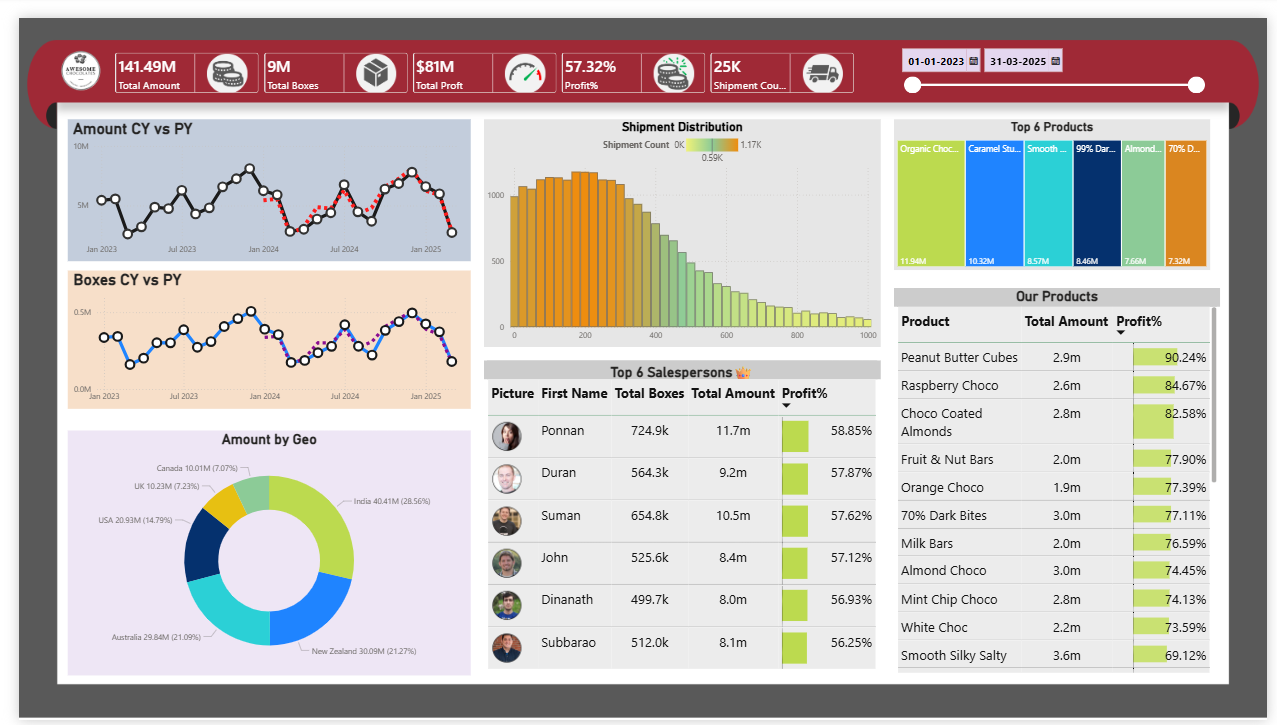

The dashboard page shown, as its layout file describes it:
{"tool":"powerbi","page":{"name":"Page 8","canvas":[1920,1080],"ordinal":7},"visuals":[{"type":"lineChart","title":"Amount CY vs PY","fields":{"Category":["calendar.Start of Month"],"Y":["shipments.Total Amount","shipments.Total Amount(last year)"]},"box":[75,156.7,620,218.3],"z":0},{"type":"lineChart","title":"Boxes CY vs PY","fields":{"Category":["calendar.Start of Month"],"Y":["shipments.Total Boxes","shipments.Total Box(Last Year)"]},"box":[75,387.5,620,212.5],"z":1000},{"type":"donutChart","title":"Amount by Geo","fields":{"Category":["locations.Geo"],"Y":["shipments.Total Amount"]},"box":[75,635,620,376.7],"z":2000},{"type":"clusteredColumnChart","title":"Shipment Distribution","fields":{"Category":["shipments.Boxes (bins)"],"Y":["shipments.Shipment Count"]},"box":[715,156.7,610,350],"z":3000},{"type":"tableEx","title":"Top 6 Salespersons👑","fields":{"Values":["people.Picture","people.First Name","shipments.Total Boxes","shipments.Total Amount","shipments.Profit%"]},"box":[715,526.7,610,485],"z":4000},{"type":"treemap","title":"Top 6 Products","fields":{"Values":["shipments.Total Amount"],"Group":["products.Product"]},"box":[1346.7,156.7,486.7,231.7],"z":5000},{"type":"tableEx","title":"Our Products","fields":{"Values":["products.Product","shipments.Total Amount","shipments.Profit%"]},"box":[1346.7,415,501.7,596.7],"z":6000},{"type":"cardVisual","fields":{"Data":["shipments.Total Amount","shipments.Total Boxes","shipments.Total Proft","shipments.Profit%","shipments.Shipment Count"]},"box":[130,36,1172,96],"z":7000},{"type":"slicer","fields":{"Values":["calendar.cal_date"]},"box":[1346,36,486,96],"z":8000}]}

Visuals, with their boxes in screenshot pixels (x1, y1, x2, y2), scaled from the page's 1920x1080 canvas onto the 1277x725 screenshot:
"Amount CY vs PY" lineChart: select_region(50, 105, 462, 252)
"Boxes CY vs PY" lineChart: select_region(50, 260, 462, 403)
"Amount by Geo" donutChart: select_region(50, 426, 462, 679)
"Shipment Distribution" clusteredColumnChart: select_region(476, 105, 881, 340)
"Top 6 Salespersons👑" tableEx: select_region(476, 354, 881, 679)
"Top 6 Products" treemap: select_region(896, 105, 1219, 261)
"Our Products" tableEx: select_region(896, 279, 1229, 679)
cardVisual - shipments.Total Amount x shipments.Total Boxes: select_region(86, 24, 866, 89)
slicer - calendar.cal_date: select_region(895, 24, 1218, 89)
